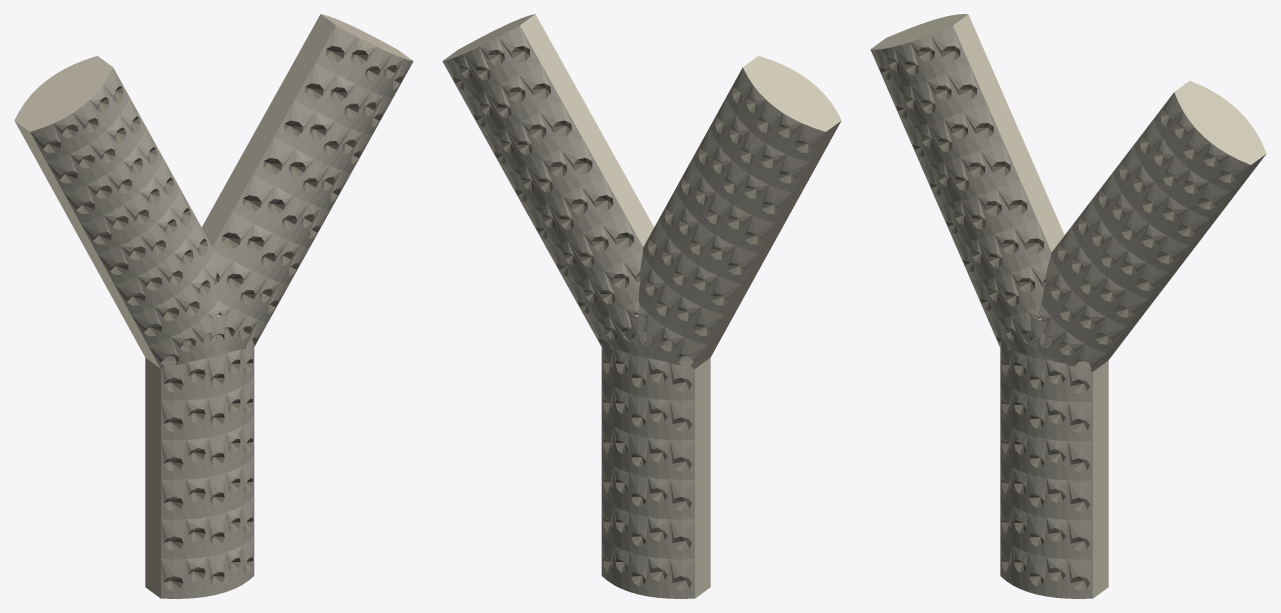
File: cystodictya.glb
3 views of the same model, side by side, from view 1: azimuth 30°, elevation 25°; view 2: azimuth 150°, elevation 25°; view 3: azimuth 330°, elevation 25° (orthographic).
Parts seen in each view (by area): view 1: cystodictya-original-skeleton; view 2: cystodictya-original-skeleton; view 3: cystodictya-original-skeleton.
Boxes of the visible parts, x1=… form: cystodictya-original-skeleton: x1=14, y1=14, x2=413, y2=598; cystodictya-original-skeleton: x1=442, y1=14, x2=841, y2=598; cystodictya-original-skeleton: x1=870, y1=14, x2=1266, y2=598.
Size of the model in its own units: 0.00361 by 0.00489 by 0.000616.
